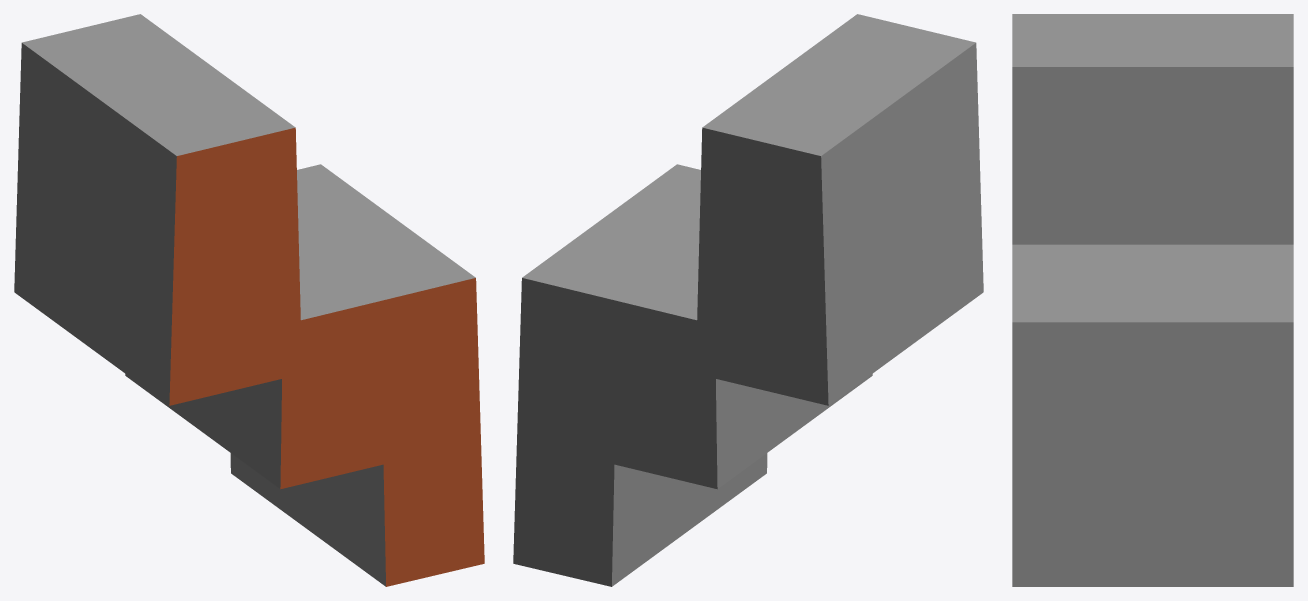
The model's file is construction_1629_assumed_A_Casa_h6m.obj.
3 renders of one model, left to right at view 1: azimuth 30°, elevation 25°; view 2: azimuth 150°, elevation 25°; view 3: azimuth 270°, elevation 25°, orthographic. The views are drawn at different scales.
Visible parts, largest first — view 1: construction_1629_assumed_A_Casa; view 2: construction_1629_assumed_A_Casa; view 3: construction_1629_assumed_A_Casa.
Boxes of the visible parts, x1,y1,x2,y2 form: construction_1629_assumed_A_Casa: (14,14,484,586); construction_1629_assumed_A_Casa: (513,14,983,586); construction_1629_assumed_A_Casa: (1012,14,1293,586).
Bounding box in the file's own units: 7.04 × 10.29 × 6.
